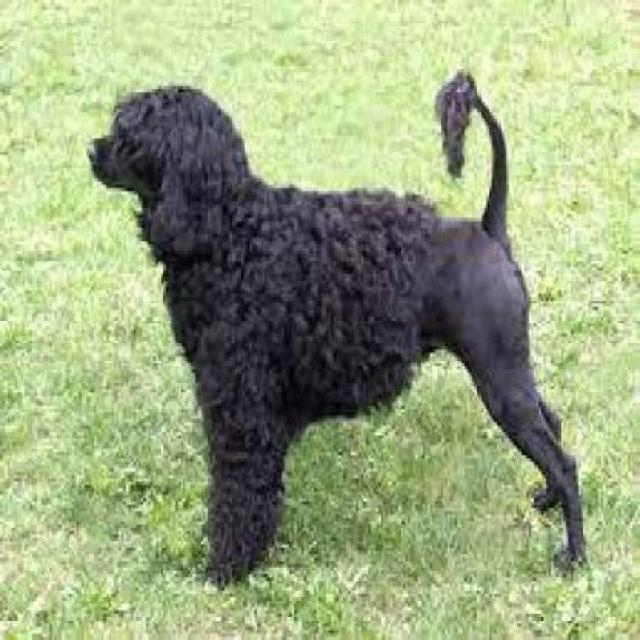animals: (51, 0, 609, 640)
